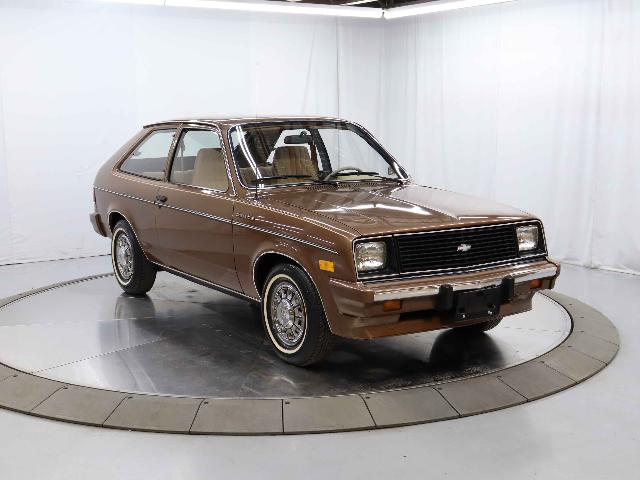chevette-1983: (90, 115, 560, 366)
